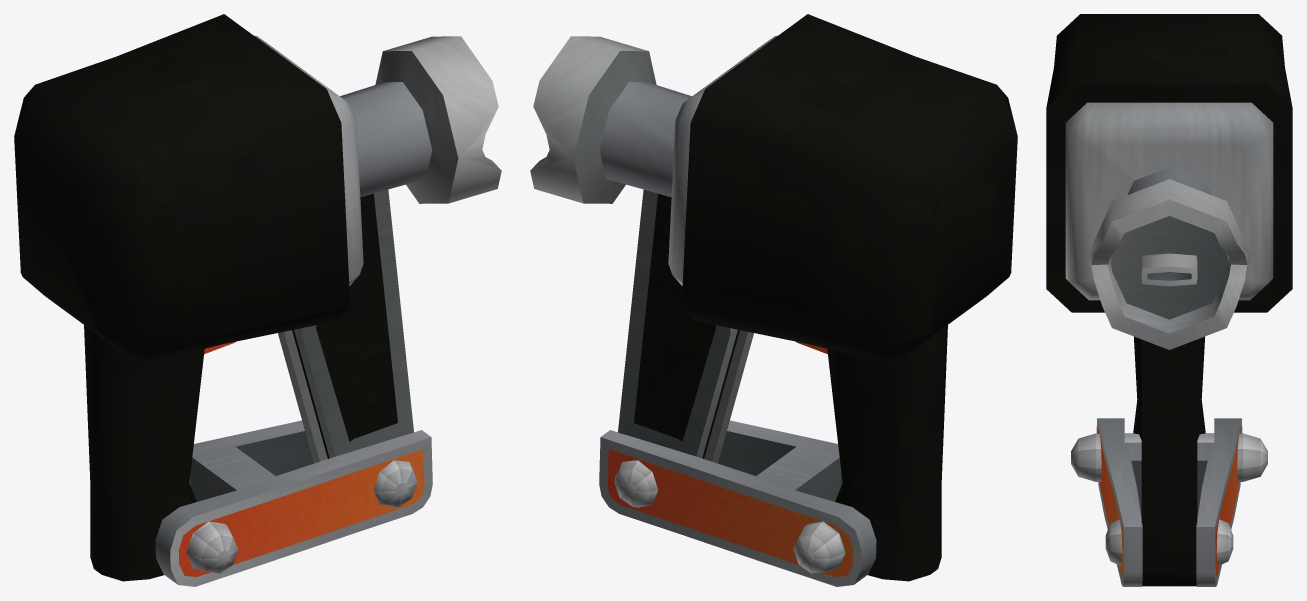
File: nail_gun.fbx
The picture shows the model from 3 angles, left to right: view 1: azimuth 30°, elevation 25°; view 2: azimuth 150°, elevation 25°; view 3: azimuth 270°, elevation 25°; orthographic projection. The views are drawn at different scales.
Visible parts, largest first — view 1: nail_gun; view 2: nail_gun; view 3: nail_gun.
Part boxes in pixels (box(x1,y1,x2,y2)): nail_gun: box(14, 14, 501, 586); nail_gun: box(530, 14, 1017, 586); nail_gun: box(1046, 14, 1292, 586).
Bounding box in the file's own units: 31.31 × 34.51 × 16.89.
